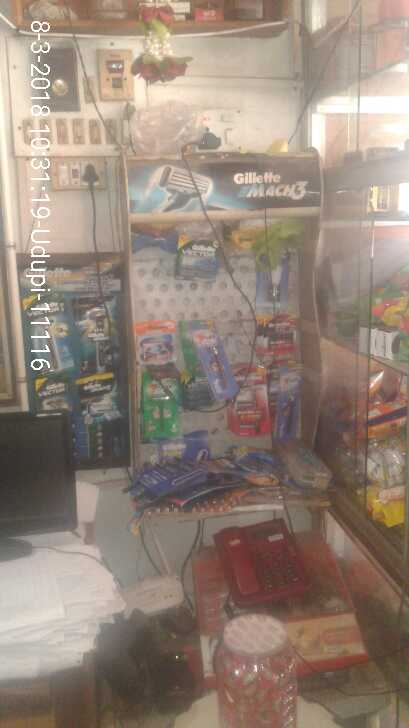gillette: (20, 300, 77, 370), (84, 310, 120, 371), (256, 249, 292, 306), (177, 235, 219, 271), (35, 380, 73, 413), (75, 380, 116, 406)
